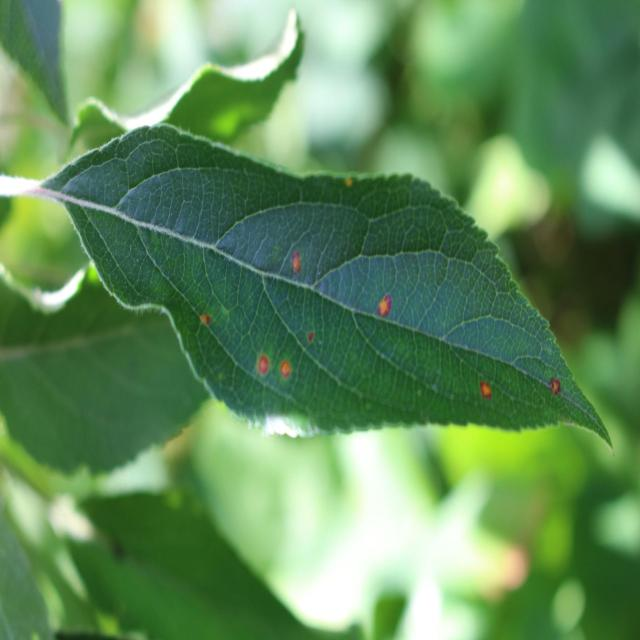Rust: (371, 292, 399, 326), (288, 243, 304, 285), (194, 303, 213, 334), (548, 370, 565, 402), (477, 375, 492, 405), (256, 352, 270, 380), (281, 359, 295, 387), (341, 171, 356, 196), (302, 327, 316, 351)
